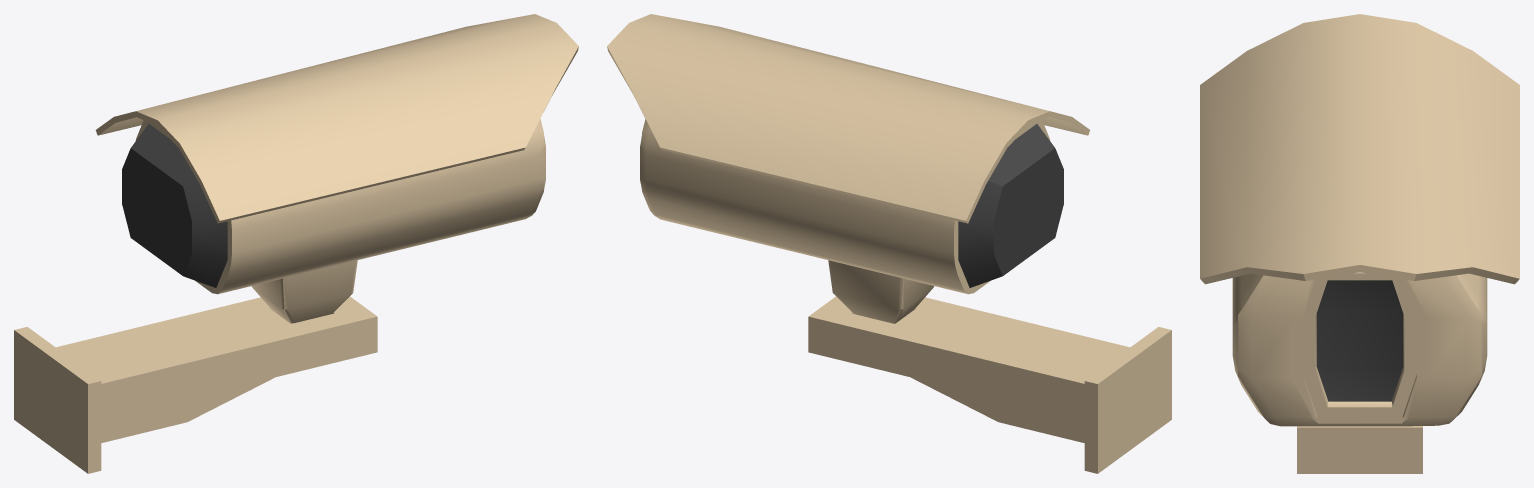
Rendered from monitor.fbx.
The picture shows the model from 3 angles, left to right: view 1: azimuth 30°, elevation 25°; view 2: azimuth 150°, elevation 25°; view 3: azimuth 270°, elevation 25°; orthographic projection. The views are drawn at different scales.
Parts seen in each view (by area): view 1: 平面, 立方體, 立方體.001; view 2: 平面, 立方體, 立方體.001; view 3: 平面, 立方體, 立方體.001.
Boxes of the visible parts, box(x1,y1,x2,y2) form: 平面: box(95, 14, 578, 223); 立方體: box(122, 119, 545, 323); 立方體.001: box(14, 296, 377, 473); 平面: box(607, 14, 1090, 223); 立方體: box(640, 119, 1063, 323); 立方體.001: box(808, 296, 1171, 473); 平面: box(1200, 14, 1519, 284); 立方體: box(1232, 272, 1487, 426); 立方體.001: box(1297, 426, 1422, 473).
Bounding box in the file's own units: 806 × 458 × 343.
